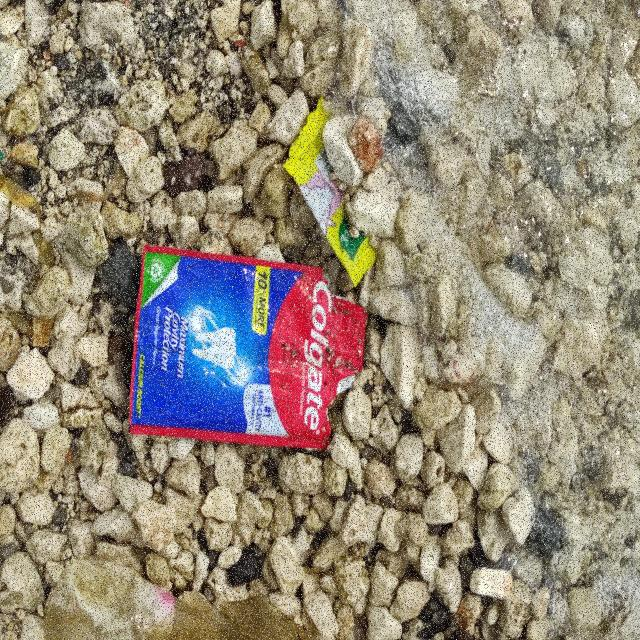plastic_waste: (128, 245, 370, 452), (282, 95, 378, 291)
